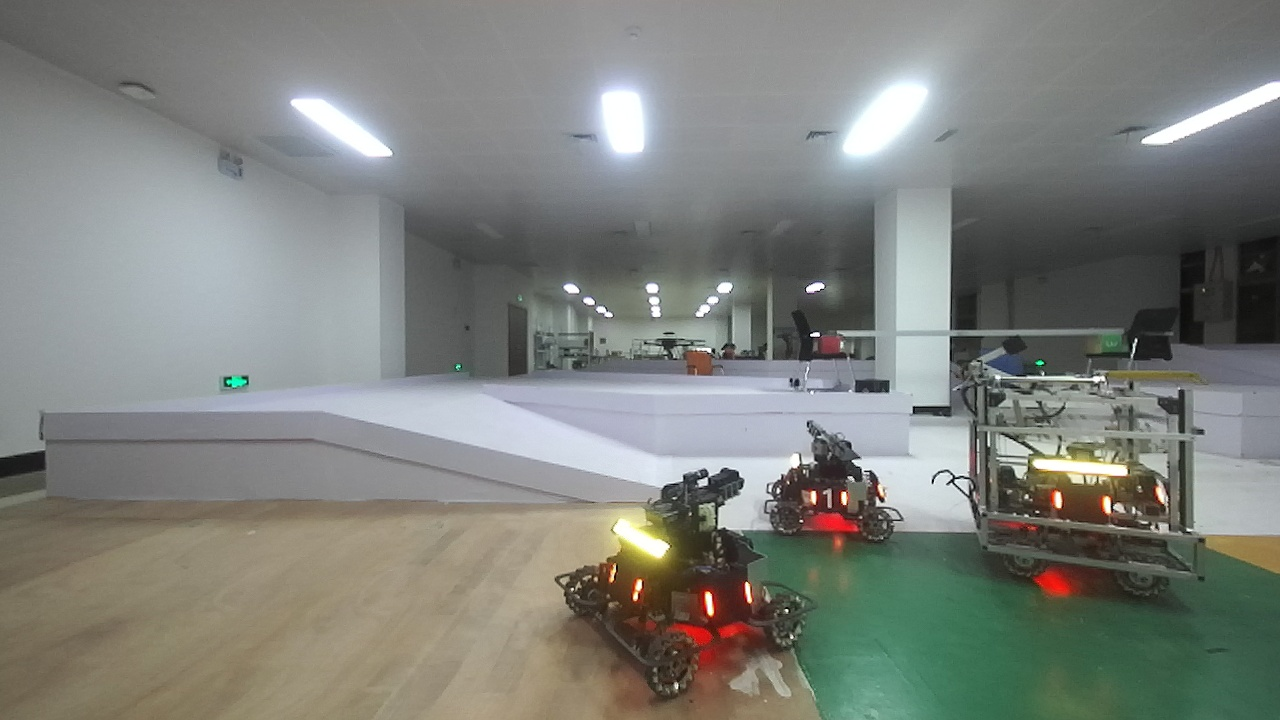car: (939, 346, 1229, 613), (558, 442, 815, 709), (752, 407, 905, 559)
